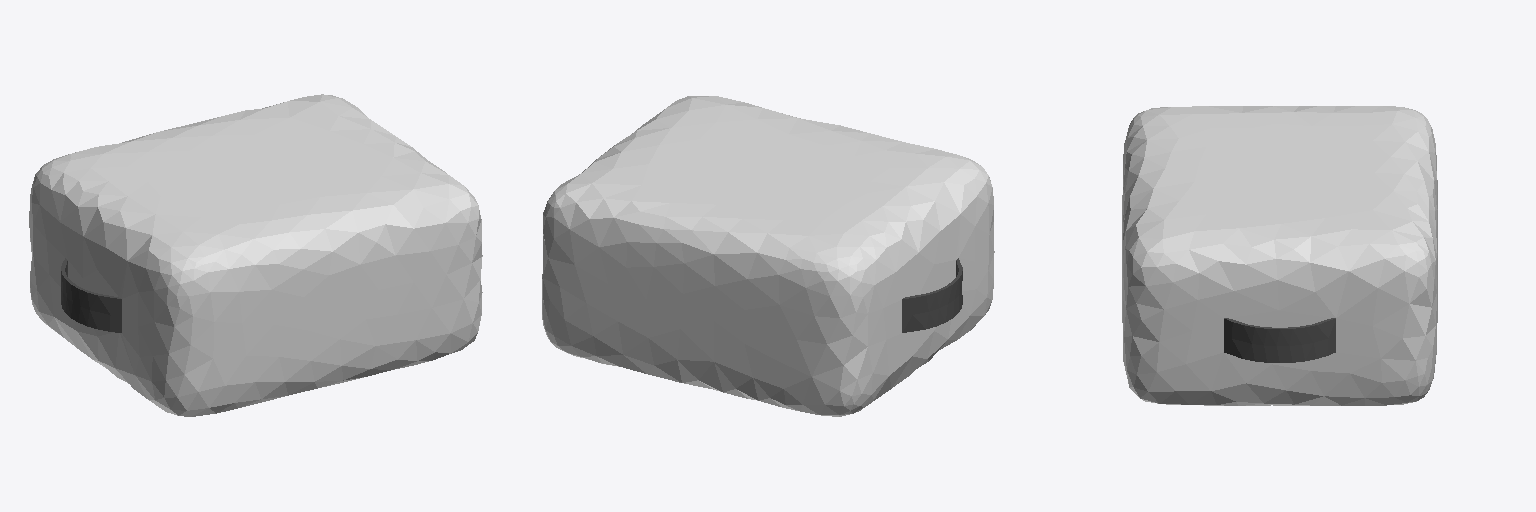
The picture shows the model from 3 angles: view 1: azimuth 30°, elevation 25°; view 2: azimuth 150°, elevation 25°; view 3: azimuth 270°, elevation 25°; orthographic projection.
Parts seen in each view (by area): view 1: right_left_handle; view 2: right_left_handle; view 3: right_left_handle.
Boxes of the visible parts, box(x1,y1,x2,y2) form: right_left_handle: box(29, 94, 482, 416); right_left_handle: box(542, 96, 994, 416); right_left_handle: box(1122, 106, 1437, 405).
Size of the model in its own units: 0.57 by 0.25 by 0.42.
1 materials, 1 textured.